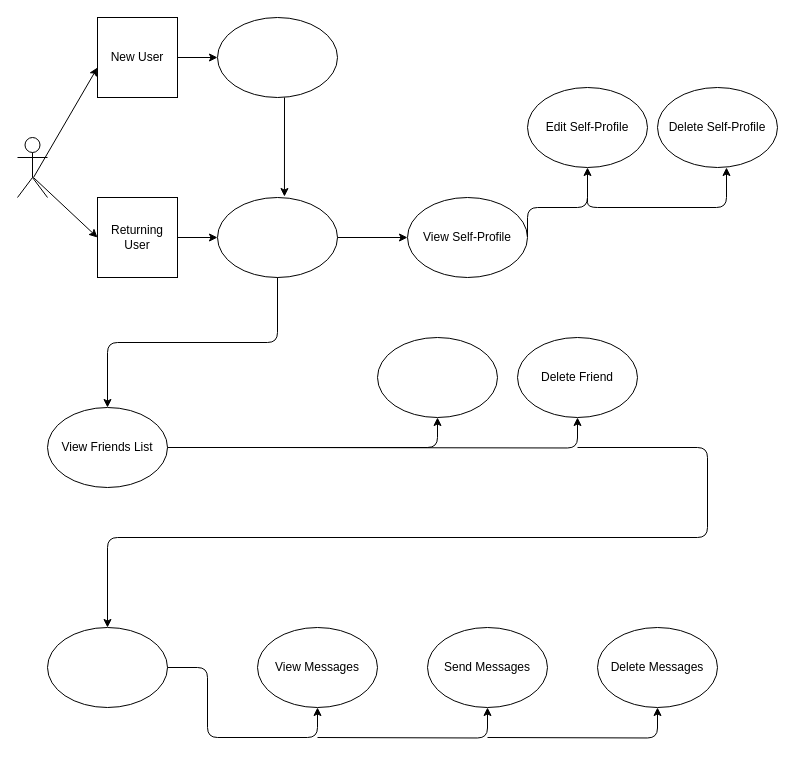
The diagram is 795 pixels wide and 764 high, and some of its shapes have lost their labels. Here are the shapes that lost their labels. From the top down, the centre of each, then its label:
the point at 277,57: Create Account
the point at 32,167: User
the point at 277,237: Login to account
the point at 437,377: Add Friend
the point at 107,667: View Friend-Profile
